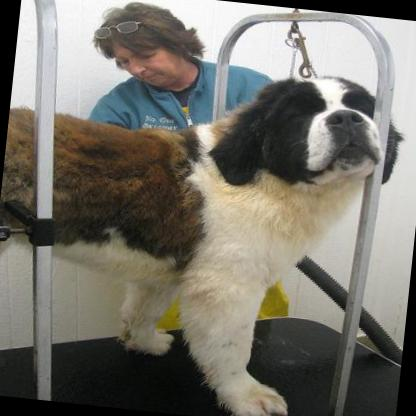Saint_Bernard: (0, 38, 409, 416)
